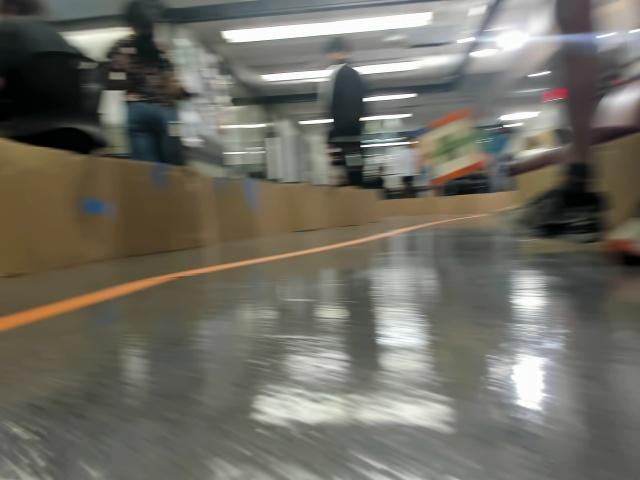Go Around: (425, 142, 471, 172)
